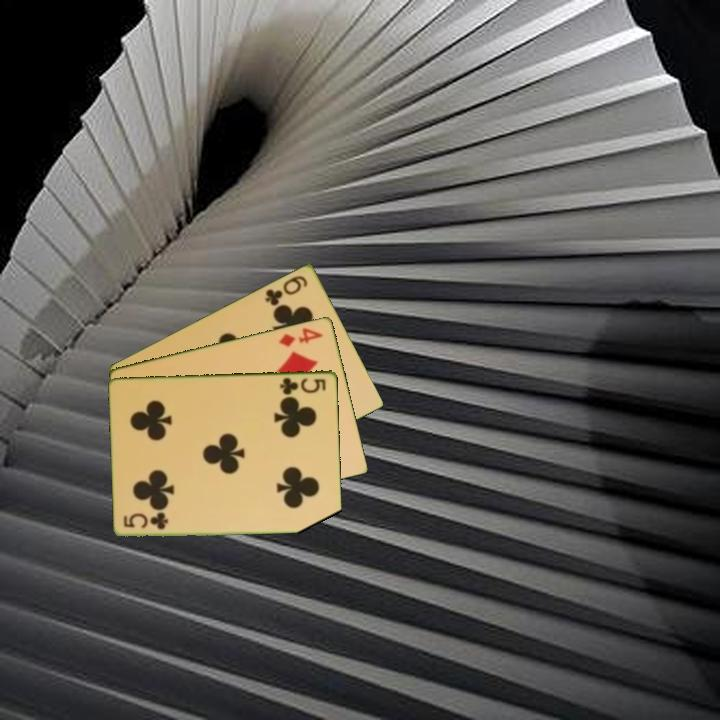4d: (276, 324, 326, 350)
5c: (276, 374, 329, 397), (120, 511, 171, 532)
6c: (262, 272, 311, 308)
